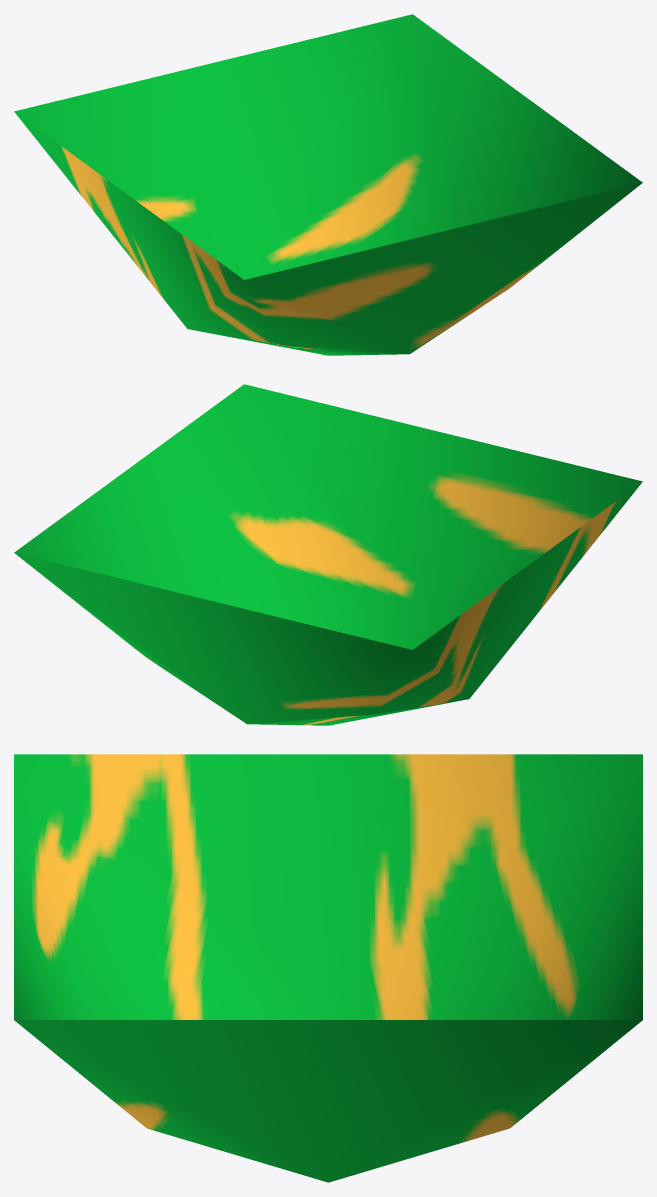
Rendered from p_mesh_trashbot_slimewave_bubbles01.fbx.
3 renders of one model, top to bottom at view 1: azimuth 30°, elevation 25°; view 2: azimuth 150°, elevation 25°; view 3: azimuth 270°, elevation 25°, orthographic. The views are drawn at different scales.
Parts seen in each view (by area): view 1: Cube.002; view 2: Cube.002; view 3: Cube.002.
Boxes of the visible parts, x1,y1,x2,y2 form: Cube.002: [14, 14, 642, 355]; Cube.002: [14, 384, 642, 725]; Cube.002: [14, 754, 642, 1182].
Size of the model in its own units: 1 by 0.501 by 1.
